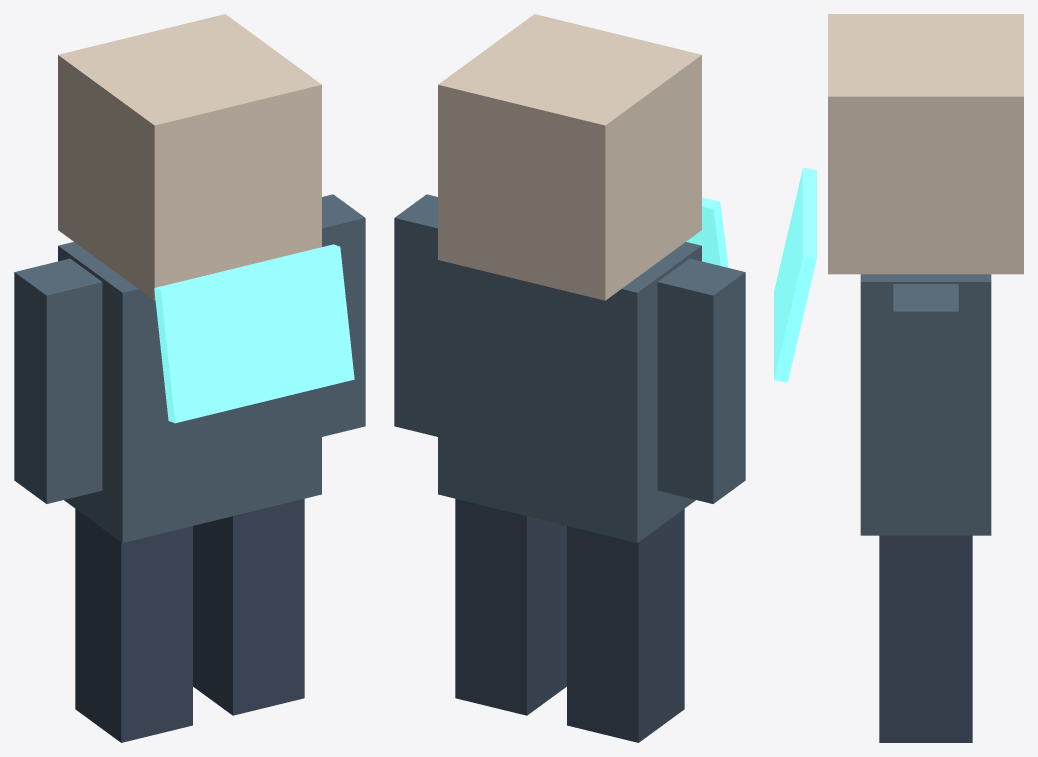
File: programmer.glb
3 views of the same model, side by side, from view 1: azimuth 30°, elevation 25°; view 2: azimuth 150°, elevation 25°; view 3: azimuth 270°, elevation 25° (orthographic).
Visible parts, largest first — view 1: head, torso, screenBadge, legL, legR, armL, armR; view 2: head, torso, legL, legR, armL, armR, screenBadge; view 3: head, legR, torso, armR, screenBadge.
Boxes of the visible parts, x1,y1,x2,y2 form: head: (58, 14, 321, 300); torso: (58, 242, 321, 542); screenBadge: (154, 244, 354, 423); legL: (75, 509, 192, 742); legR: (193, 498, 304, 715); armL: (14, 258, 102, 503); armR: (322, 194, 365, 436); head: (438, 14, 701, 300); torso: (438, 242, 701, 542); legL: (567, 509, 684, 742); legR: (455, 498, 566, 715); armL: (657, 258, 745, 503); armR: (394, 194, 437, 436); screenBadge: (686, 197, 728, 267); head: (828, 14, 1023, 274); legR: (879, 535, 972, 742); torso: (860, 274, 991, 535); armR: (893, 284, 958, 522); screenBadge: (774, 167, 816, 382).
Bounding box in the file's own units: 0.08 × 0.152 × 0.0536.
